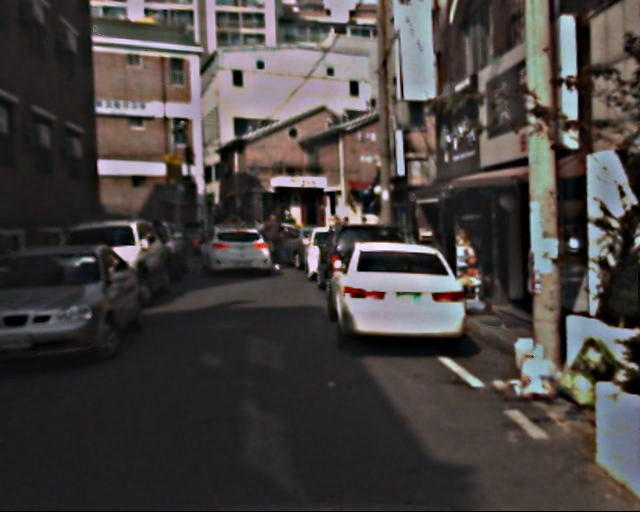person: (261, 214, 286, 274)
